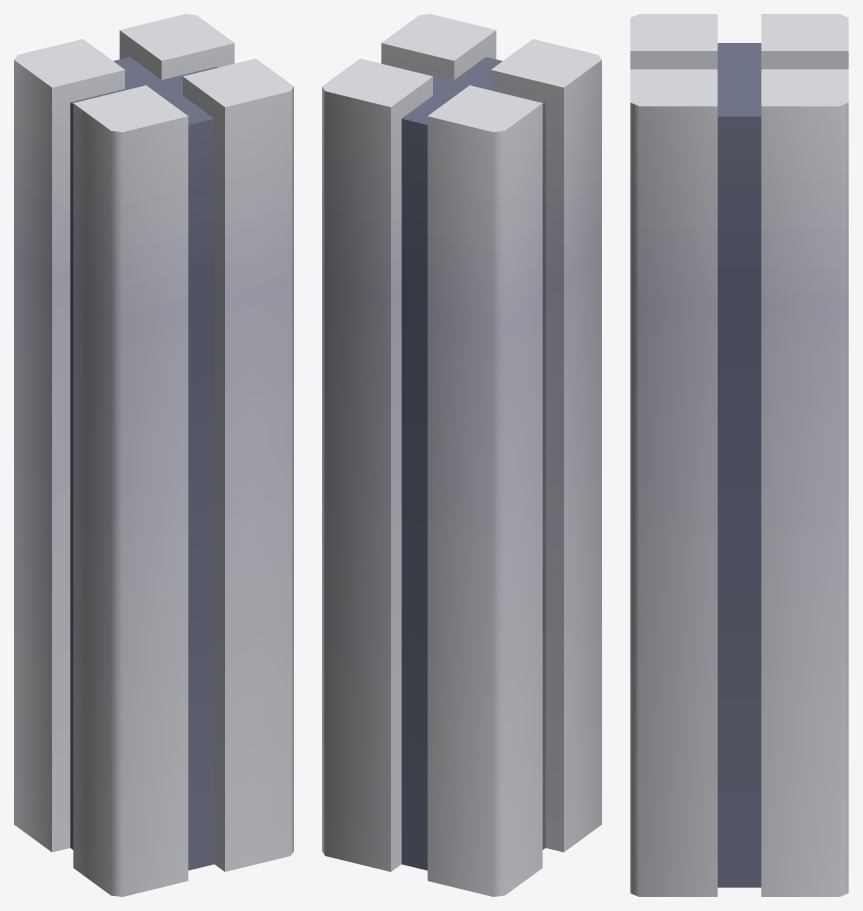
The model's file is bldg.glb.
The picture shows the model from 3 angles, left to right: view 1: azimuth 30°, elevation 25°; view 2: azimuth 150°, elevation 25°; view 3: azimuth 270°, elevation 25°; orthographic projection. The views are drawn at different scales.
Parts seen in each view (by area): view 1: low-detail-building-g; view 2: low-detail-building-g; view 3: low-detail-building-g.
Part boxes in pixels (left/top/right/bottom): low-detail-building-g: left=14, top=14, right=293, bottom=896; low-detail-building-g: left=322, top=14, right=601, bottom=896; low-detail-building-g: left=630, top=14, right=848, bottom=896.
Size of the model in its own units: 0.5001 by 2 by 0.5001.
1 material, 1 textured.
